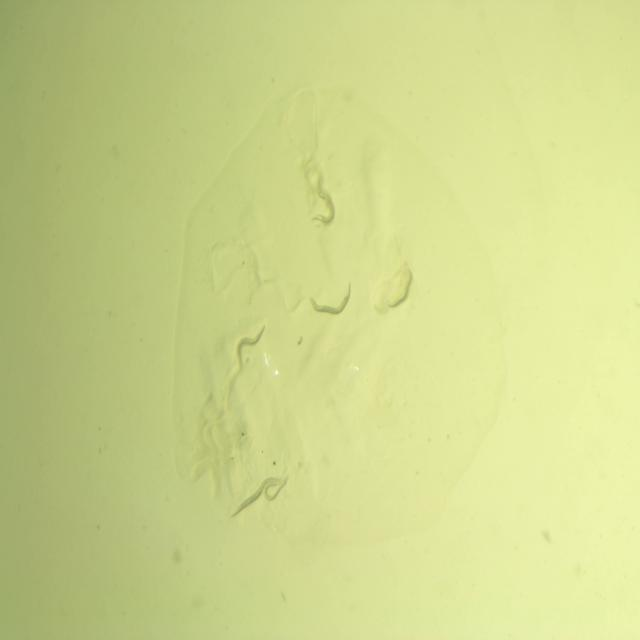worm: (227, 475, 282, 524), (305, 275, 357, 320), (233, 316, 270, 374), (307, 174, 339, 235), (382, 263, 419, 312), (261, 470, 292, 508)
